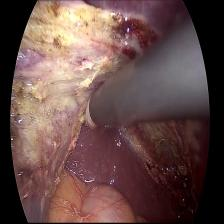Hook: (72, 90, 96, 133)
